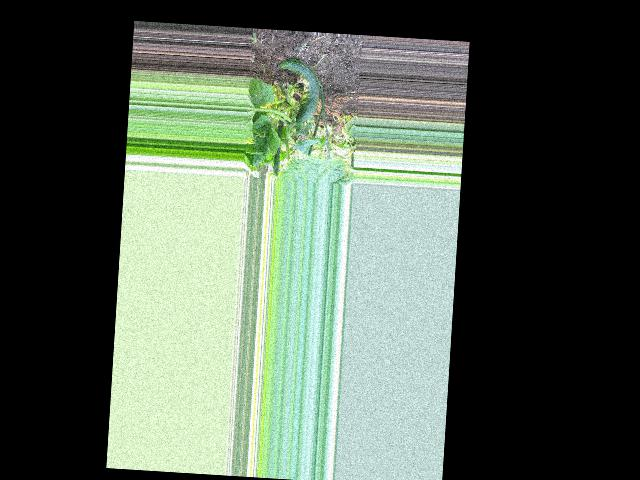cucumber: (276, 57, 321, 125)
